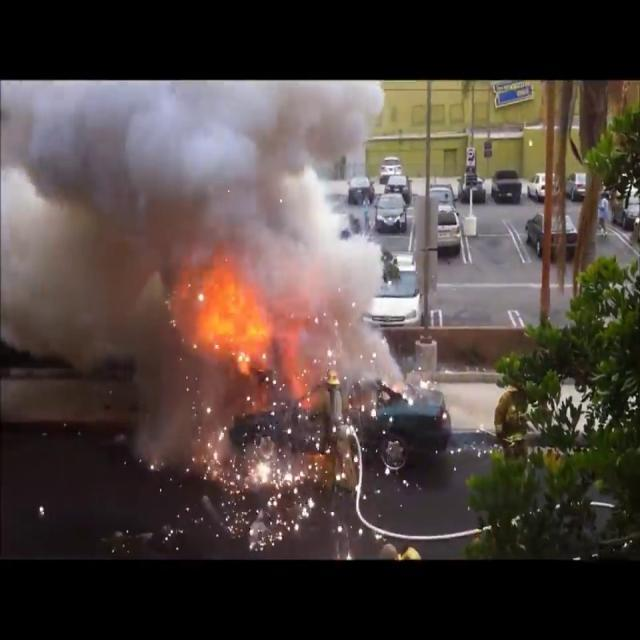Fire: (202, 255, 269, 357)
Smoke: (1, 81, 405, 422)
